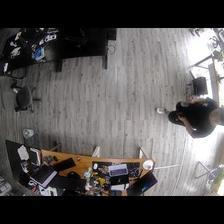normal: (150, 99, 224, 139)
